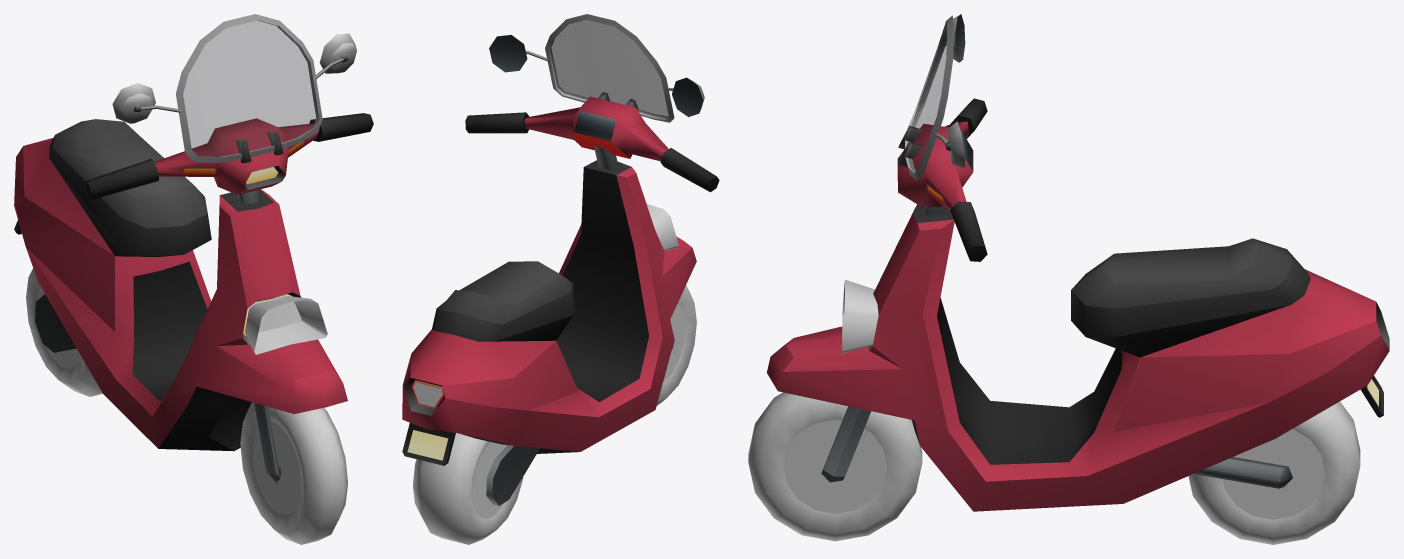
File: TSP_Scooter_01B.fbx
3 views of the same model, side by side, from view 1: azimuth 30°, elevation 25°; view 2: azimuth 150°, elevation 25°; view 3: azimuth 270°, elevation 25° (orthographic). The views are drawn at different scales.
Visible parts, largest first — view 1: TSP_Scooter_01B_Body, TSP_Scooter_01B_Handlebars, TSP_Scooter_01B_Wheel_F, TSP_Scooter_01B_Body_Headlights, TSP_Scooter_01B_Wheel_R; view 2: TSP_Scooter_01B_Body, TSP_Scooter_01B_Handlebars, TSP_Scooter_01B_Wheel_R, TSP_Scooter_01B_Wheel_F, TSP_Scooter_01B_Body_Headlights, TSP_Scooter_01B_Taillights; view 3: TSP_Scooter_01B_Body, TSP_Scooter_01B_Wheel_F, TSP_Scooter_01B_Wheel_R, TSP_Scooter_01B_Handlebars, TSP_Scooter_01B_Body_Headlights.
Boxes of the visible parts, box(x1,y1,x2,y2) form: TSP_Scooter_01B_Body: box(14, 119, 347, 451); TSP_Scooter_01B_Handlebars: box(85, 14, 373, 482); TSP_Scooter_01B_Wheel_F: box(240, 402, 347, 544); TSP_Scooter_01B_Body_Headlights: box(244, 296, 327, 354); TSP_Scooter_01B_Wheel_R: box(26, 268, 102, 396); TSP_Scooter_01B_Body: box(402, 160, 696, 505); TSP_Scooter_01B_Handlebars: box(465, 14, 719, 349); TSP_Scooter_01B_Wheel_R: box(413, 433, 523, 544); TSP_Scooter_01B_Wheel_F: box(656, 285, 696, 405); TSP_Scooter_01B_Body_Headlights: box(646, 204, 678, 250); TSP_Scooter_01B_Taillights: box(413, 382, 443, 406); TSP_Scooter_01B_Body: box(767, 204, 1389, 511); TSP_Scooter_01B_Wheel_F: box(748, 392, 922, 541); TSP_Scooter_01B_Wheel_R: box(1188, 401, 1360, 544); TSP_Scooter_01B_Handlebars: box(821, 14, 987, 482); TSP_Scooter_01B_Body_Headlights: box(842, 280, 878, 353).
Size of the model in its own units: 93.95 by 152 by 173.
